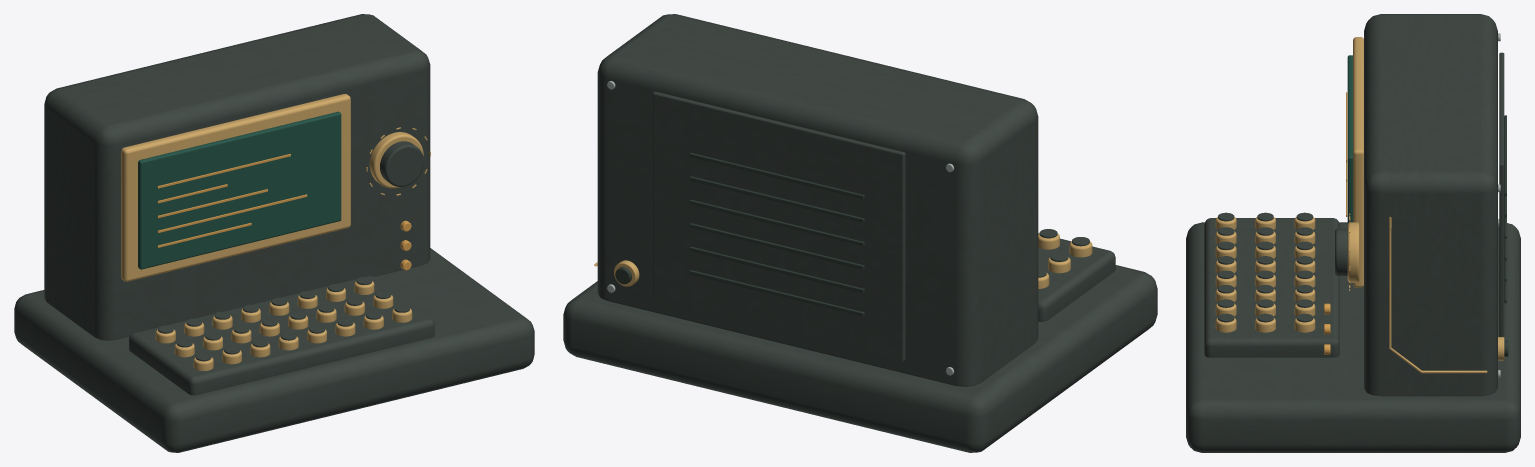
File: echo-terminal.glb
3 renders of one model, left to right at view 1: azimuth 30°, elevation 25°; view 2: azimuth 150°, elevation 25°; view 3: azimuth 270°, elevation 25°, orthographic. The views are drawn at different scales.
Parts seen in each view (by area): view 1: Upper_Housing, Terminal_Base, Record_Display, Keyboard_Deck, Screen_Brass_Bezel, Rotary_Dial, Rotary_Dial_Mount; view 2: Upper_Housing, Rear_Service_Panel, Terminal_Base, Keyboard_Deck, Rear_Service_Vent.001, Rear_Service_Vent.002, Rear_Service_Vent.003, Rear_Service_Vent.005, Rear_Service_Vent.004, Rear_Service_Vent; view 3: Upper_Housing, Terminal_Base, Keyboard_Deck, Screen_Brass_Bezel, Rear_Service_Panel, Record_Display, Side_Deco_Accent, Rotary_Dial_Mount, Rotary_Dial.
Boxes of the visible parts, x1,y1,x2,y2 form: Upper_Housing: (44, 14, 430, 340); Terminal_Base: (14, 248, 534, 452); Record_Display: (138, 111, 341, 269); Keyboard_Deck: (129, 276, 434, 395); Screen_Brass_Bezel: (121, 94, 350, 281); Rotary_Dial: (380, 141, 424, 186); Rotary_Dial_Mount: (369, 132, 423, 188); Upper_Housing: (597, 14, 1038, 386); Rear_Service_Panel: (652, 91, 905, 361); Terminal_Base: (563, 265, 1157, 452); Keyboard_Deck: (1038, 233, 1115, 321); Rear_Service_Vent.001: (689, 246, 864, 293); Rear_Service_Vent.002: (689, 223, 864, 269); Rear_Service_Vent.003: (689, 199, 864, 246); Rear_Service_Vent.005: (689, 153, 864, 199); Rear_Service_Vent.004: (689, 176, 864, 222); Rear_Service_Vent: (689, 270, 864, 316); Upper_Housing: (1364, 14, 1497, 396); Terminal_Base: (1186, 222, 1520, 452); Keyboard_Deck: (1204, 218, 1339, 357); Screen_Brass_Bezel: (1353, 37, 1363, 287); Rear_Service_Panel: (1499, 52, 1504, 336); Record_Display: (1347, 55, 1352, 223); Side_Deco_Accent: (1389, 216, 1487, 373); Rotary_Dial_Mount: (1347, 222, 1359, 282); Rotary_Dial: (1335, 228, 1347, 275).
Bounding box in the file's own units: 0.34 × 0.2325 × 0.255.
6 materials, 2 textured.
